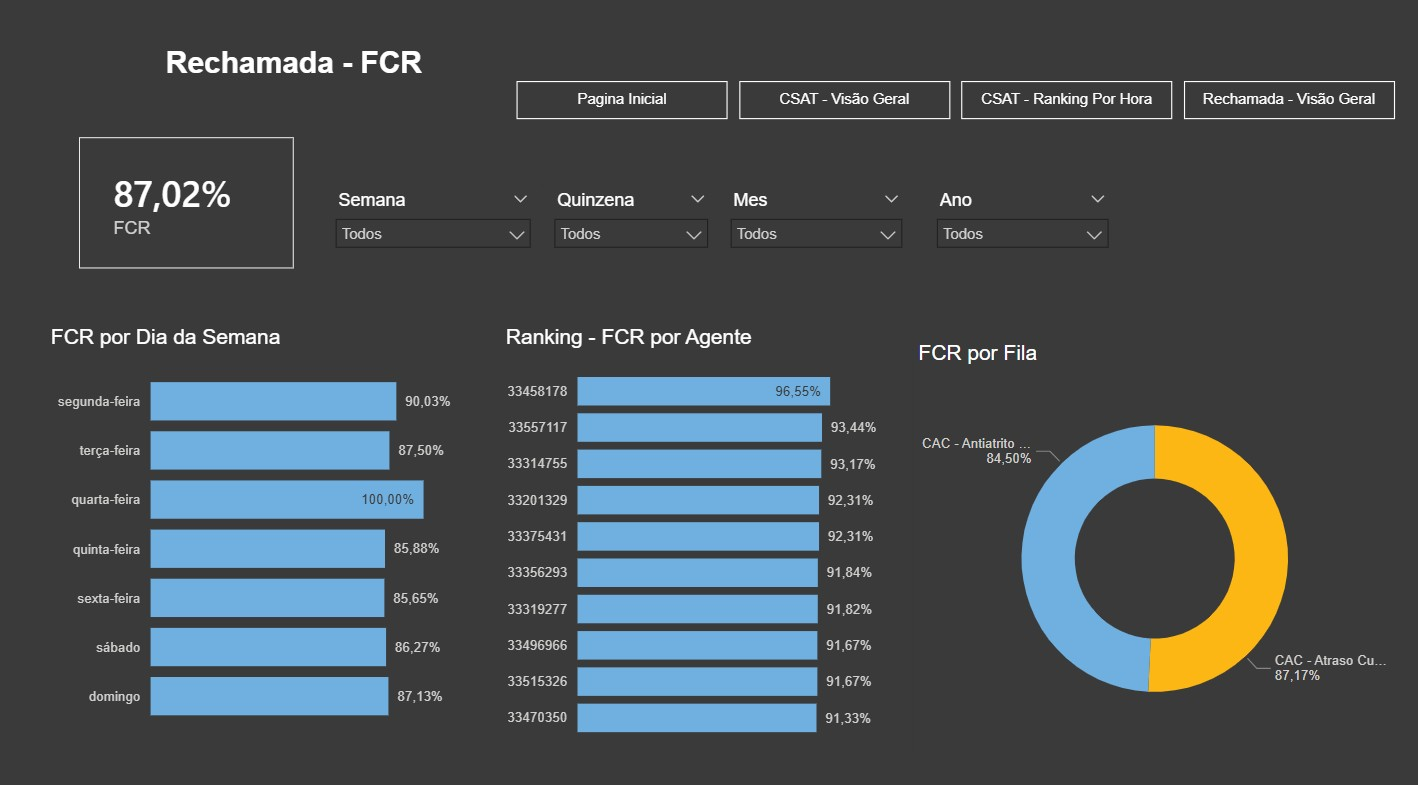

This screenshot's page, from the dashboard's own definition file:
{"tool":"powerbi","page":{"name":"Rechamada - FCR","canvas":[1280,720],"ordinal":4},"visuals":[{"type":"cardVisual","fields":{"Data":["Calculos.FCR"]},"box":[80,130,191.4,117.1],"z":0},{"type":"clusteredBarChart","fields":{"Category":["dCalendario.DiaSemanaNome"],"Y":["Calculos.FCR"]},"box":[50,297.1,388.6,371.4],"z":1000},{"type":"donutChart","fields":{"Category":["frechamada.Fila"],"Y":["Calculos.FCR"]},"box":[822.9,311.4,431.4,367.1],"z":2000},{"type":"clusteredBarChart","title":"Ranking - FCR por Agente","fields":{"Y":["Calculos.FCR"],"Category":["frechamada.AGENTE1"]},"box":[455.7,297.1,341.4,381.4],"z":3000},{"type":"textbox","box":[50,44.3,442.9,54.3],"z":4000},{"type":"slicer","fields":{"Values":["frechamada.Semana"]},"box":[298.6,172.9,194.3,74.3],"z":5000},{"type":"slicer","fields":{"Values":["frechamada.Quinzena"]},"box":[492.9,172.9,157.1,74.3],"z":6000},{"type":"slicer","fields":{"Values":["dCalendario.MesAbrev"]},"box":[650,172.9,172.9,74.3],"z":7000},{"type":"slicer","fields":{"Values":["dCalendario.Ano"]},"box":[834.3,172.9,172.9,74.3],"z":8000},{"type":"pageNavigator","box":[470,80,784,34],"z":9000}]}

Visuals, with their boxes in screenshot pixels (x1, y1, x2, y2), scaled from the page's 1280x720 canvas onto the 1418x785 screenshot:
cardVisual - Calculos.FCR: [left=89, top=142, right=301, bottom=269]
clusteredBarChart - dCalendario.DiaSemanaNome x Calculos.FCR: [left=55, top=324, right=486, bottom=729]
donutChart - frechamada.Fila x Calculos.FCR: [left=912, top=340, right=1390, bottom=740]
"Ranking - FCR por Agente" clusteredBarChart: [left=505, top=324, right=883, bottom=740]
textbox: [left=55, top=48, right=546, bottom=108]
slicer - frechamada.Semana: [left=331, top=189, right=546, bottom=270]
slicer - frechamada.Quinzena: [left=546, top=189, right=720, bottom=270]
slicer - dCalendario.MesAbrev: [left=720, top=189, right=912, bottom=270]
slicer - dCalendario.Ano: [left=924, top=189, right=1116, bottom=270]
pageNavigator: [left=521, top=87, right=1389, bottom=124]
